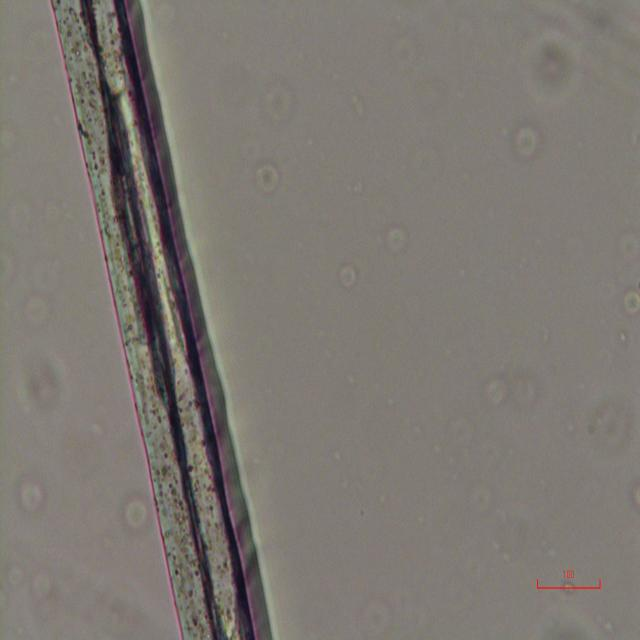Background material: (6, 273, 66, 415), (528, 34, 586, 102), (373, 19, 429, 79), (596, 392, 634, 449), (258, 78, 296, 131), (488, 368, 539, 405), (356, 593, 394, 638), (252, 157, 285, 195), (512, 122, 544, 160), (461, 484, 494, 517), (382, 222, 410, 259), (123, 492, 148, 533), (19, 479, 47, 514), (336, 260, 360, 290), (620, 287, 640, 314), (630, 480, 640, 510)
Microfibre: (50, 1, 254, 637)
